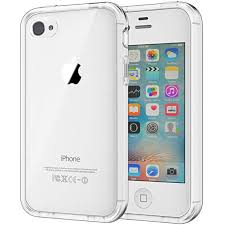iphone: (16, 1, 131, 224)
iphone4: (17, 7, 132, 222), (124, 3, 206, 223)
